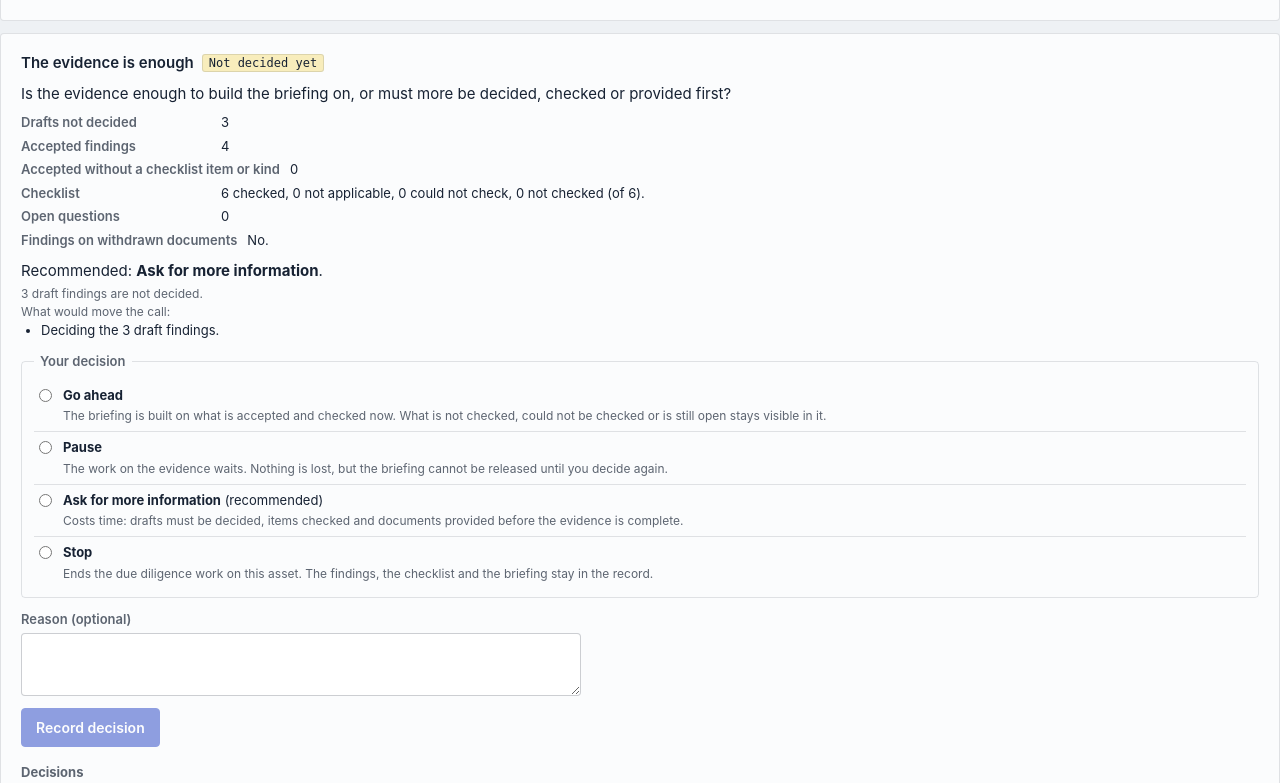
Test: GatesPanel: deciding › keeps what the person wrote when the facts change under it, clears the choice, and says why
This screenshot has width=1280, height=783.
(page scrolled)
Click the radio button labelled "Go ahead". click: (46, 395)
box: [39, 389, 52, 402]
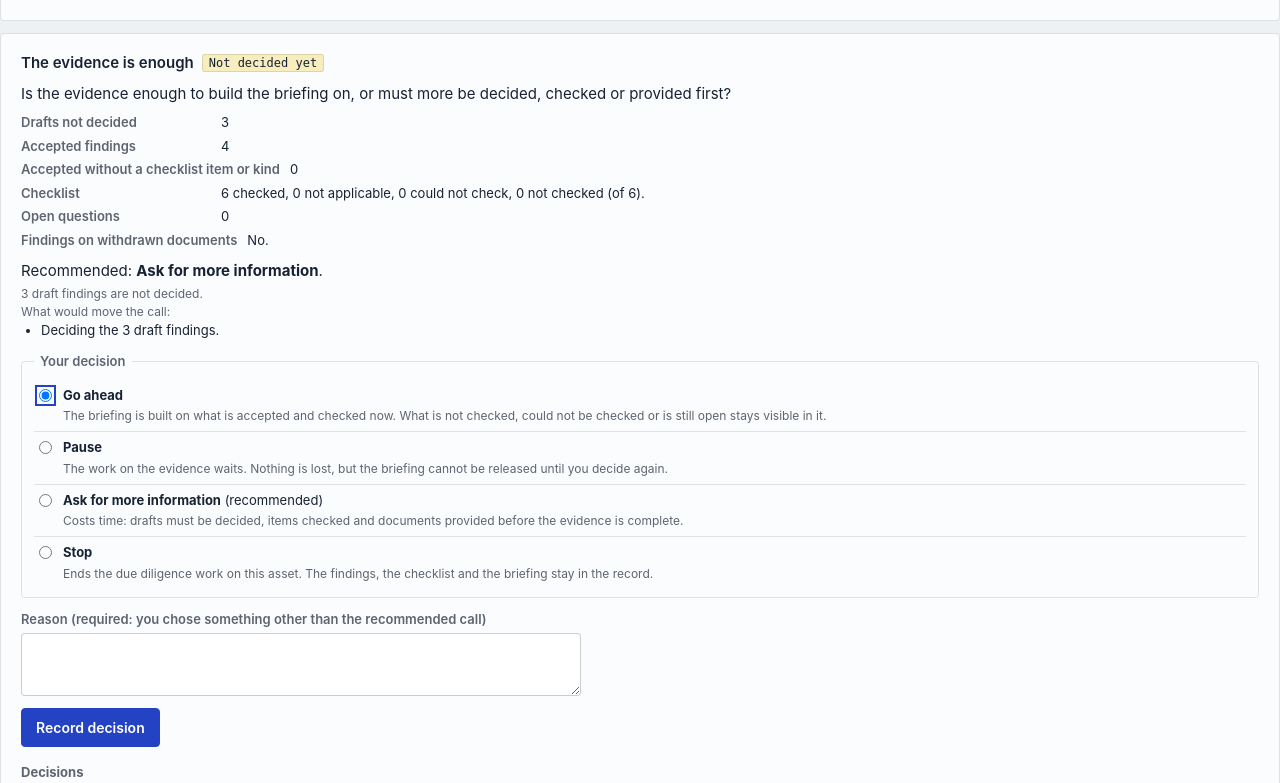
Type "half written" into the text box labelled "Reason (required". click: (301, 665)
box: [21, 633, 581, 696]
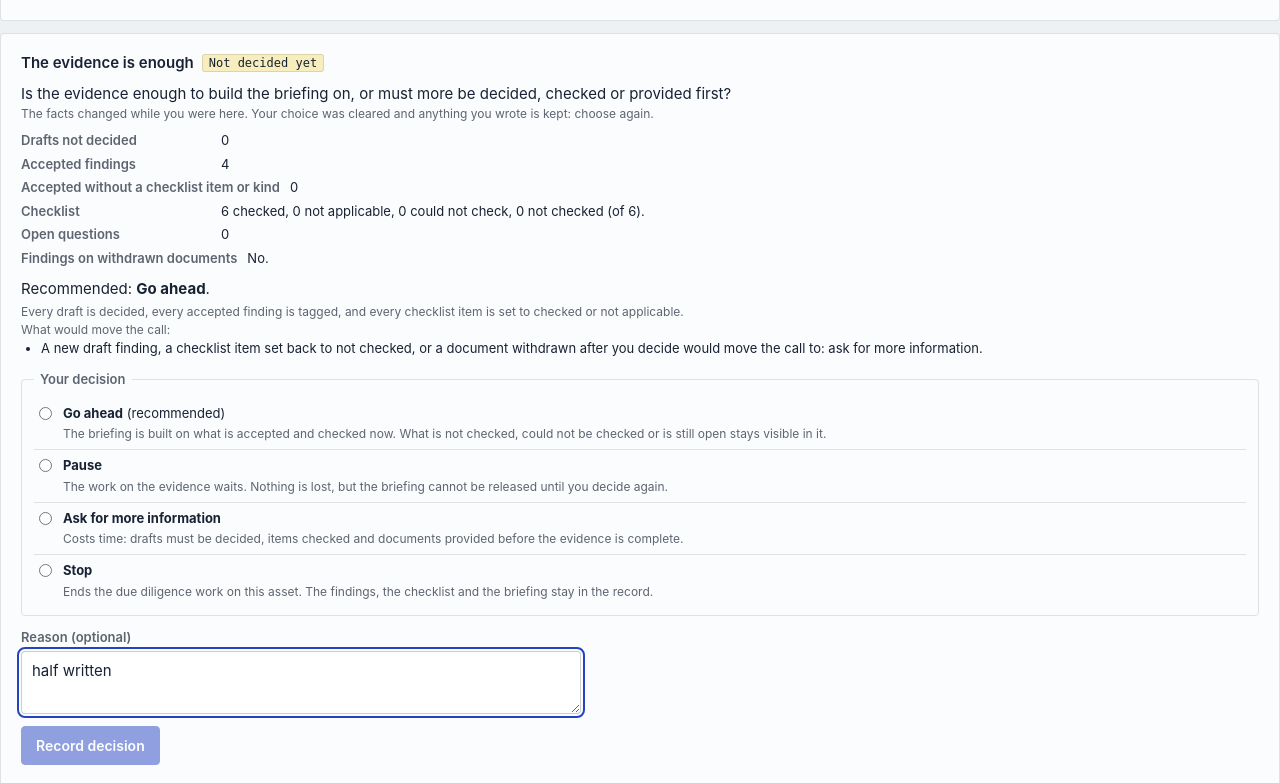
Check: the text "The facts changed while you were here" is shown, box [21, 106, 654, 121]
Check: the button "Record decision" is disabled, box [21, 726, 160, 765]
Click the radio button labelled "Pause". click: (46, 466)
box: [39, 459, 52, 472]
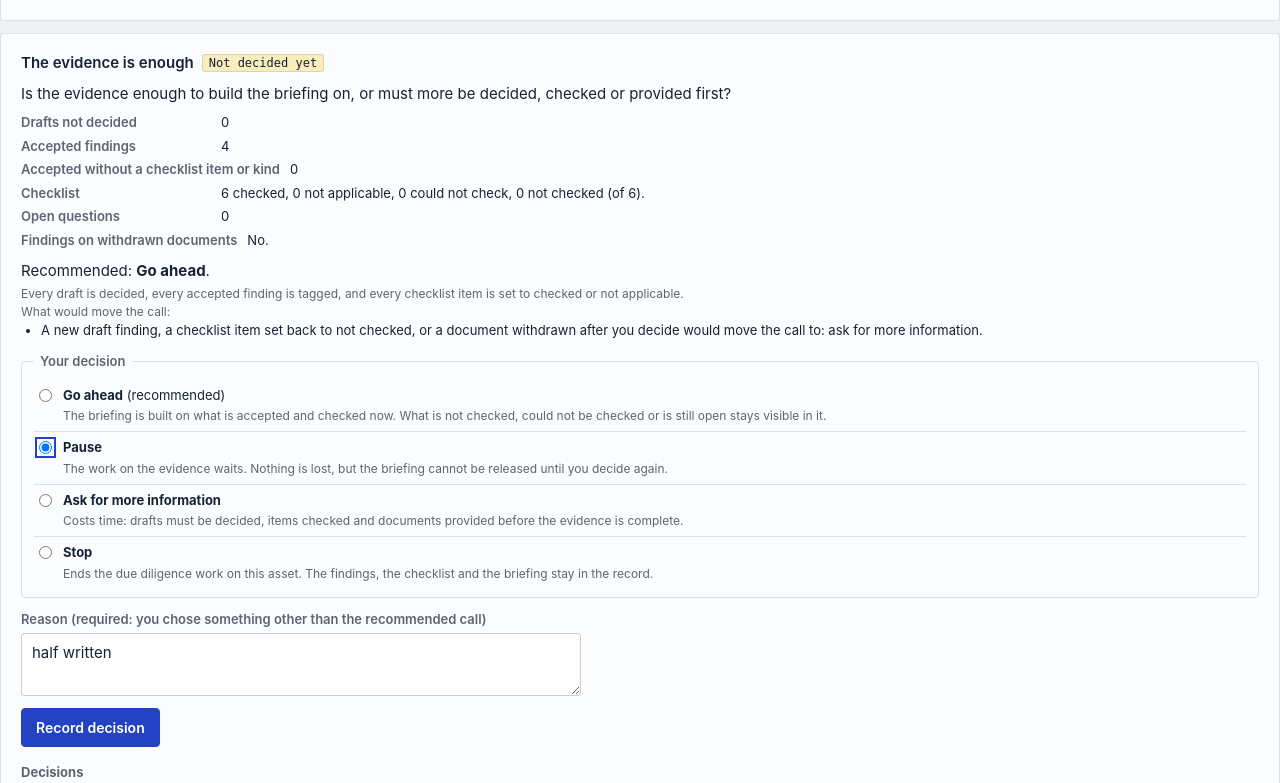
Check: the text "The facts changed while you were here" is gone
